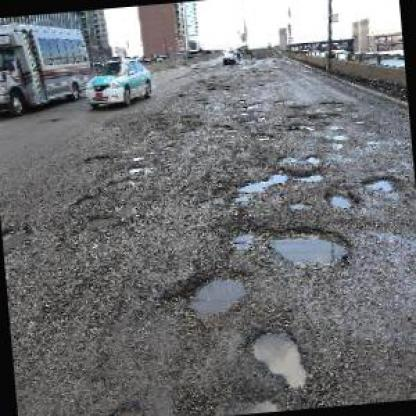pothole: (263, 218, 354, 273), (248, 323, 311, 393), (181, 266, 254, 320), (234, 168, 292, 194), (3, 220, 33, 254), (104, 395, 153, 415), (323, 184, 358, 211), (359, 172, 397, 195), (292, 168, 326, 186), (83, 211, 121, 227), (304, 151, 323, 165)
